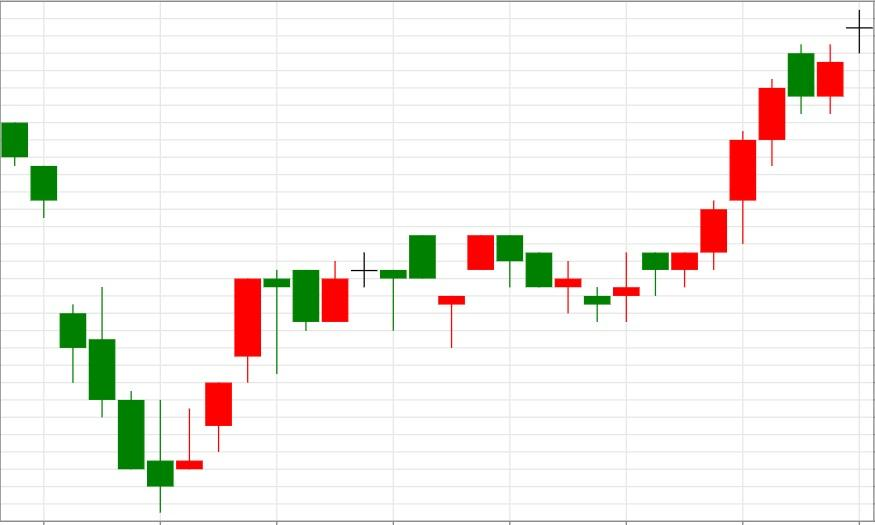three_white_soldiers_rise: (0, 122, 262, 512)
